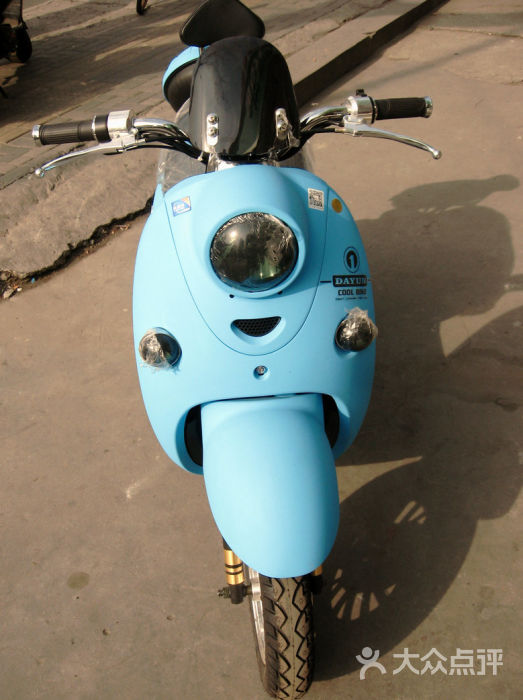电动车: (29, 4, 495, 698)
